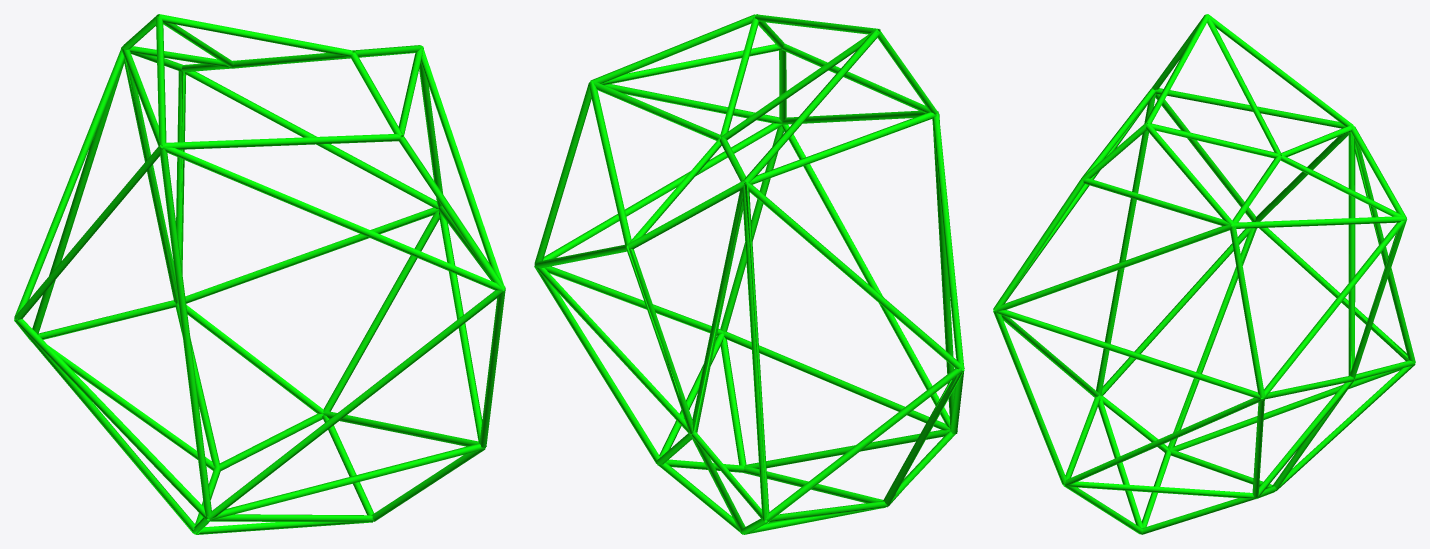
File: Asteroid 1.fbx
The picture shows the model from 3 angles, left to right: view 1: azimuth 30°, elevation 25°; view 2: azimuth 150°, elevation 25°; view 3: azimuth 270°, elevation 25°; orthographic projection. The views are drawn at different scales.
Visible parts, largest first — view 1: Main; view 2: Main; view 3: Main.
Part boxes in pixels (<box>): Main: <box>14,14,505,534</box>; Main: <box>534,14,964,534</box>; Main: <box>993,14,1415,534</box>.
Size of the model in its own units: 14.34 by 16.5 by 14.13.
